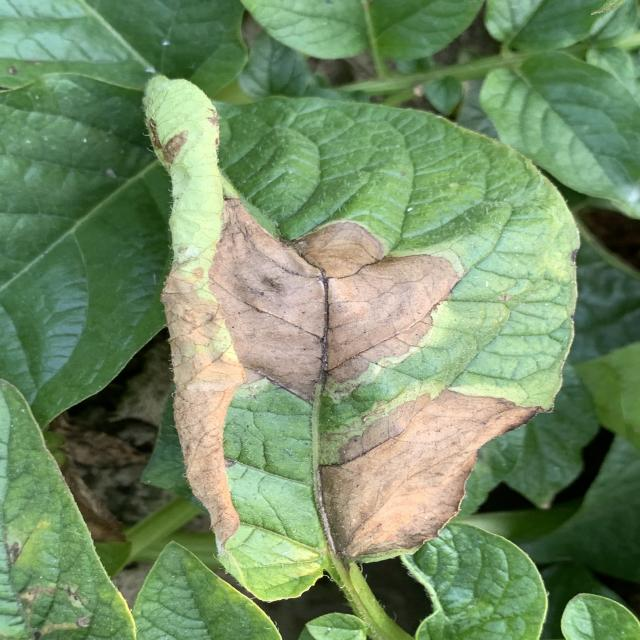lateblight: (320, 390, 537, 558), (295, 222, 460, 380), (162, 268, 247, 545), (210, 199, 325, 398)
